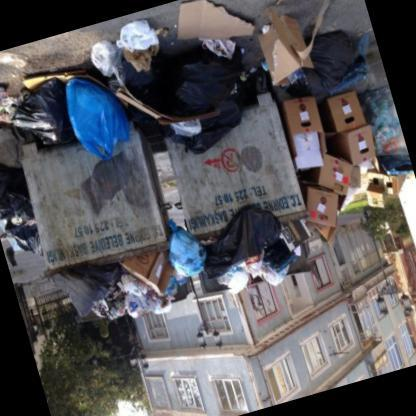Garbage: (0, 0, 269, 168), (266, 0, 415, 247), (54, 238, 202, 356), (135, 28, 251, 159), (197, 205, 318, 299), (266, 17, 371, 120), (57, 64, 136, 166), (0, 152, 53, 273), (85, 16, 183, 77), (0, 68, 69, 152), (160, 228, 208, 277)
